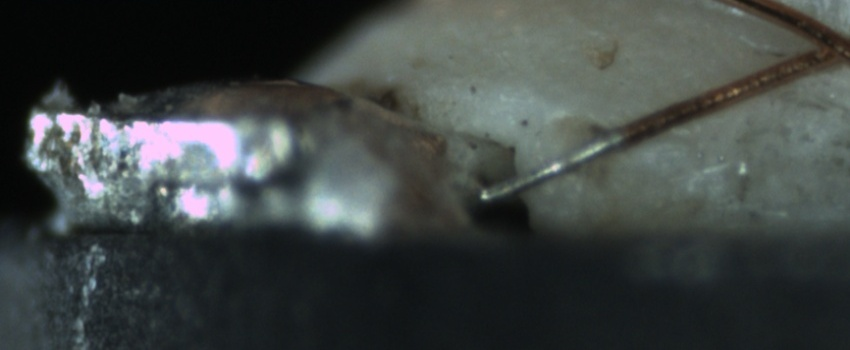CL: (791, 16, 850, 72)
TS: (477, 128, 623, 205)
